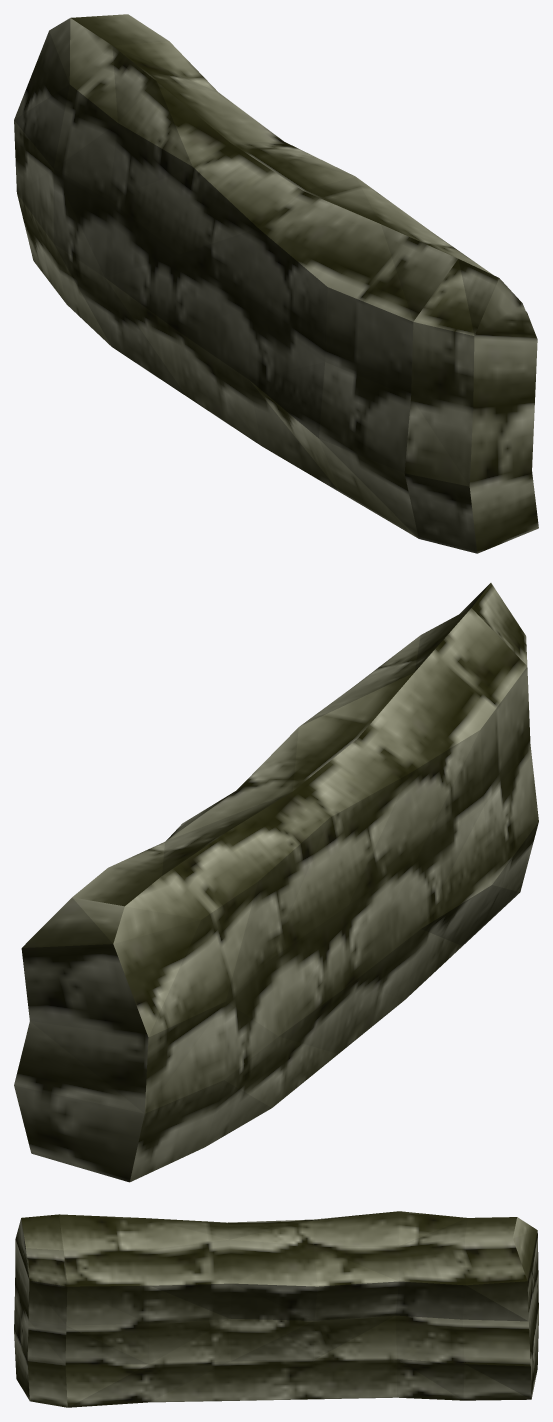
File: SandbagWall03.obj
The picture shows the model from 3 angles, top to bottom: view 1: azimuth 30°, elevation 25°; view 2: azimuth 150°, elevation 25°; view 3: azimuth 270°, elevation 25°; orthographic projection. The views are drawn at different scales.
Parts seen in each view (by area): view 1: SandbagWall01; view 2: SandbagWall01; view 3: SandbagWall01.
Boxes of the visible parts, x1=… form: SandbagWall01: x1=14, y1=14, x2=538, y2=553; SandbagWall01: x1=14, y1=583, x2=538, y2=1182; SandbagWall01: x1=14, y1=1211, x2=538, y2=1407.
Size of the model in its own units: 1.09 by 1.71 by 4.8.
